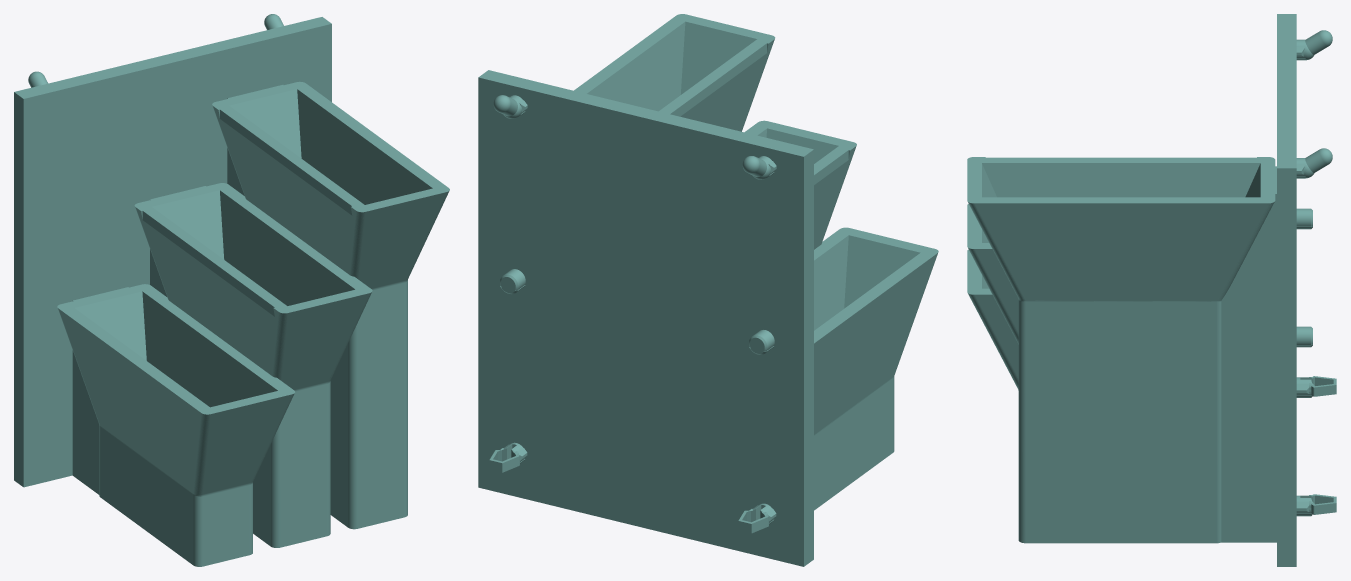
Rendered from part-cf01__v3__upright__fit-pf02c9-hoop5__print.glb.
The picture shows the model from 3 angles, left to right: view 1: azimuth 30°, elevation 25°; view 2: azimuth 150°, elevation 25°; view 3: azimuth 270°, elevation 25°; orthographic projection. The views are drawn at different scales.
Visible parts, largest first — view 1: holder; view 2: holder; view 3: holder.
Boxes of the visible parts, x1,y1,x2,y2 form: holder: [14, 14, 449, 566]; holder: [478, 14, 938, 566]; holder: [967, 14, 1336, 566].
Size of the model in its own units: 0.0996 by 0.1202 by 0.1008.
